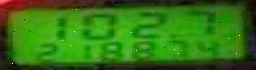-: (165, 32, 177, 38)
0: (78, 9, 114, 38)
1: (46, 13, 69, 39), (76, 42, 93, 61)
2: (124, 8, 164, 38), (28, 41, 56, 61)
4: (190, 38, 220, 58)
7: (177, 7, 218, 34), (160, 38, 188, 58)
8: (94, 38, 127, 61), (127, 38, 155, 59)
